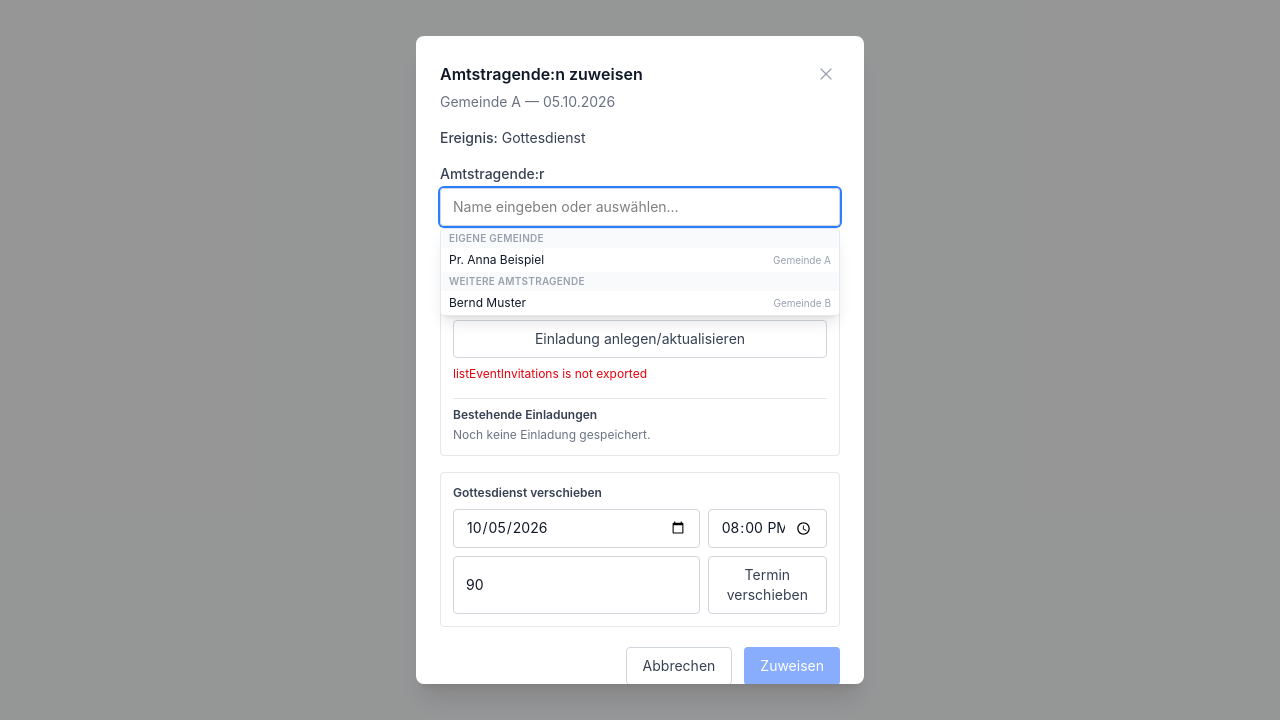
it: AssignmentModal › keeps the dialog open with the server message when the event changed meanwhile (412)
Type "Freier Name" into the dropdown with placeholder "Name eingeben oder auswählen…". click: {"x": 640, "y": 207}
box: [440,188,840,226]
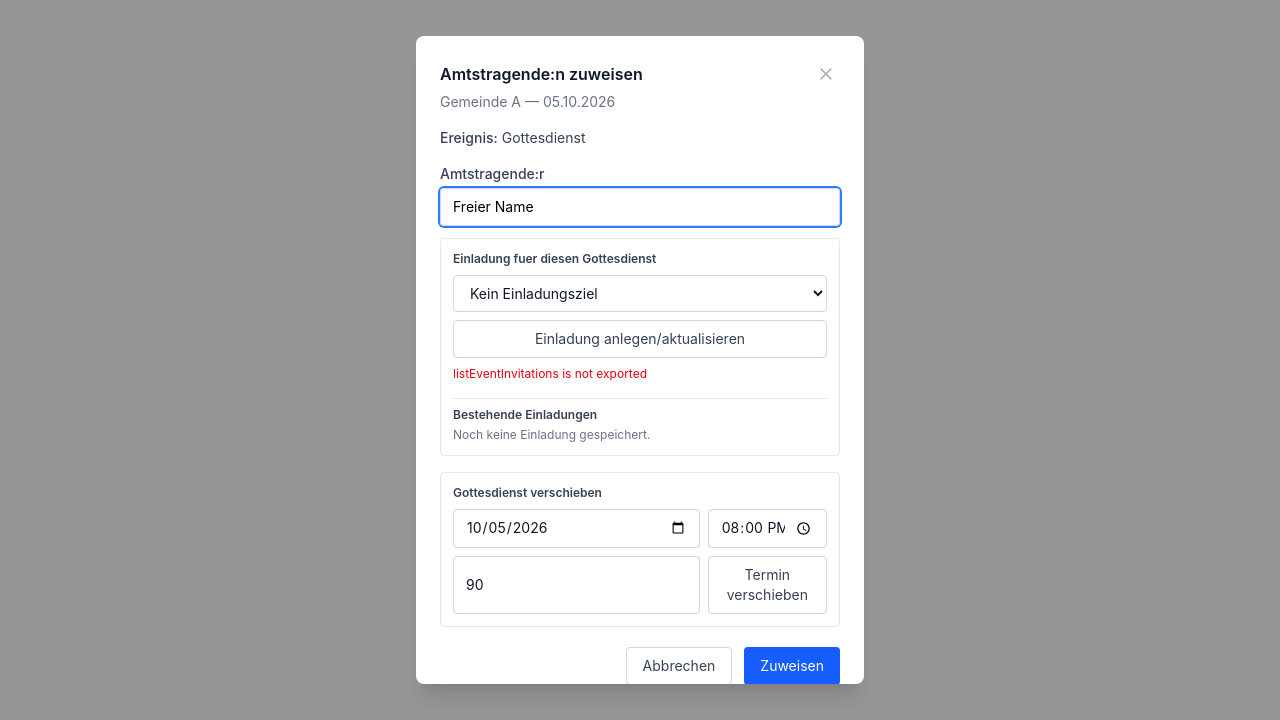
Click the button with test id "submit-assignment". click: {"x": 792, "y": 666}
box: [744,647,840,685]
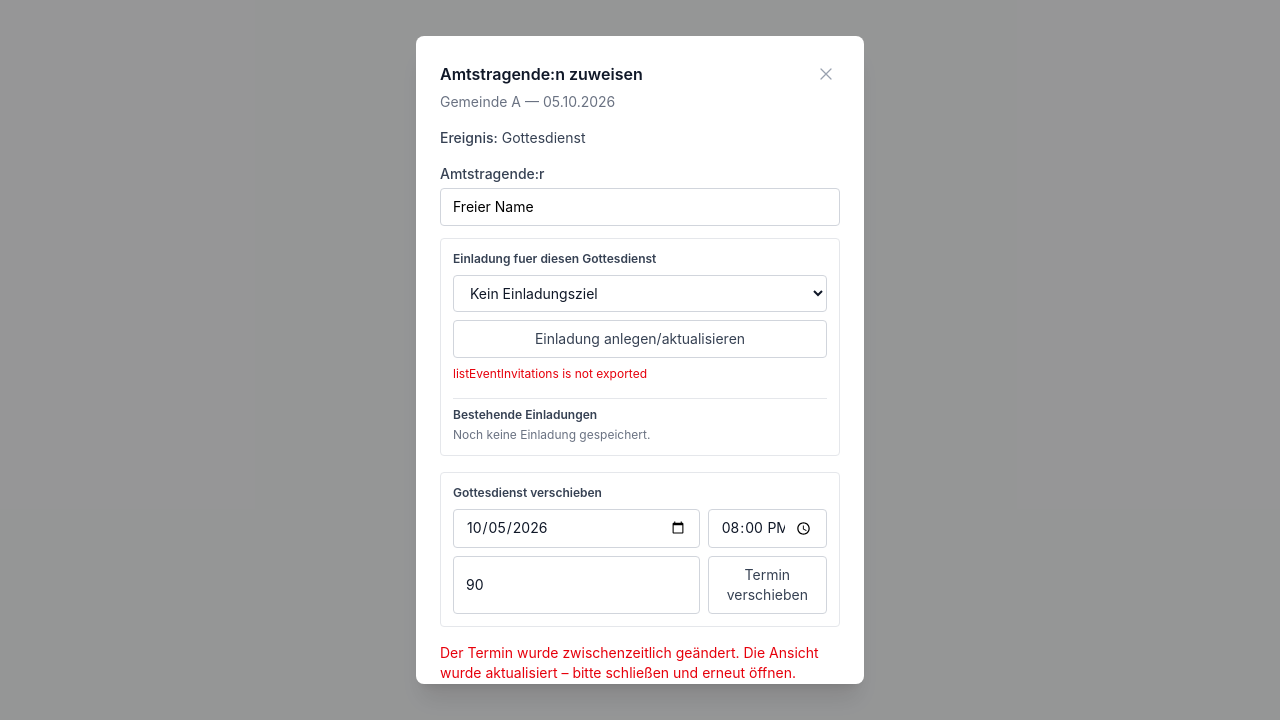
Now the text "zwischenzeitlich geändert" is shown, box [440,644,819,681]
